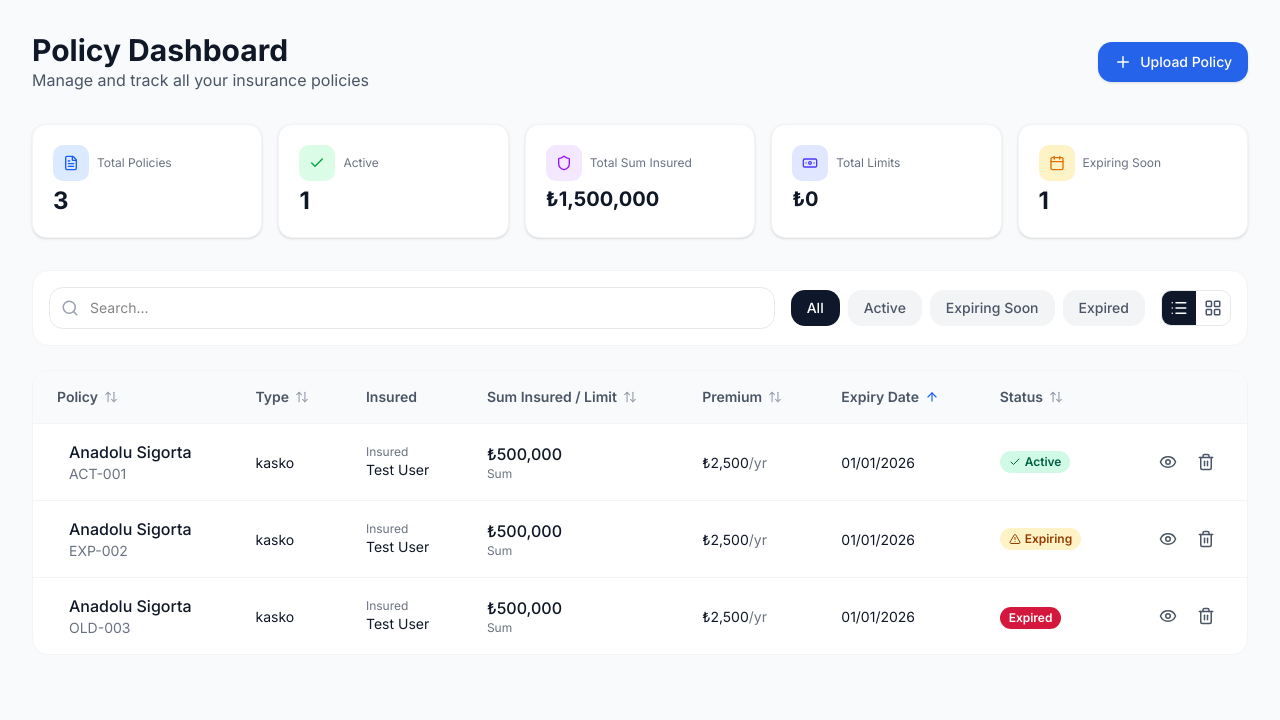
Test case: PolicyDashboard Branch Coverage › Status filter › filters to active only
The width and height of the screenshot is (1280, 720).
Step 1. Click the button "Active" → point(885, 308), box [848,290,922,326]
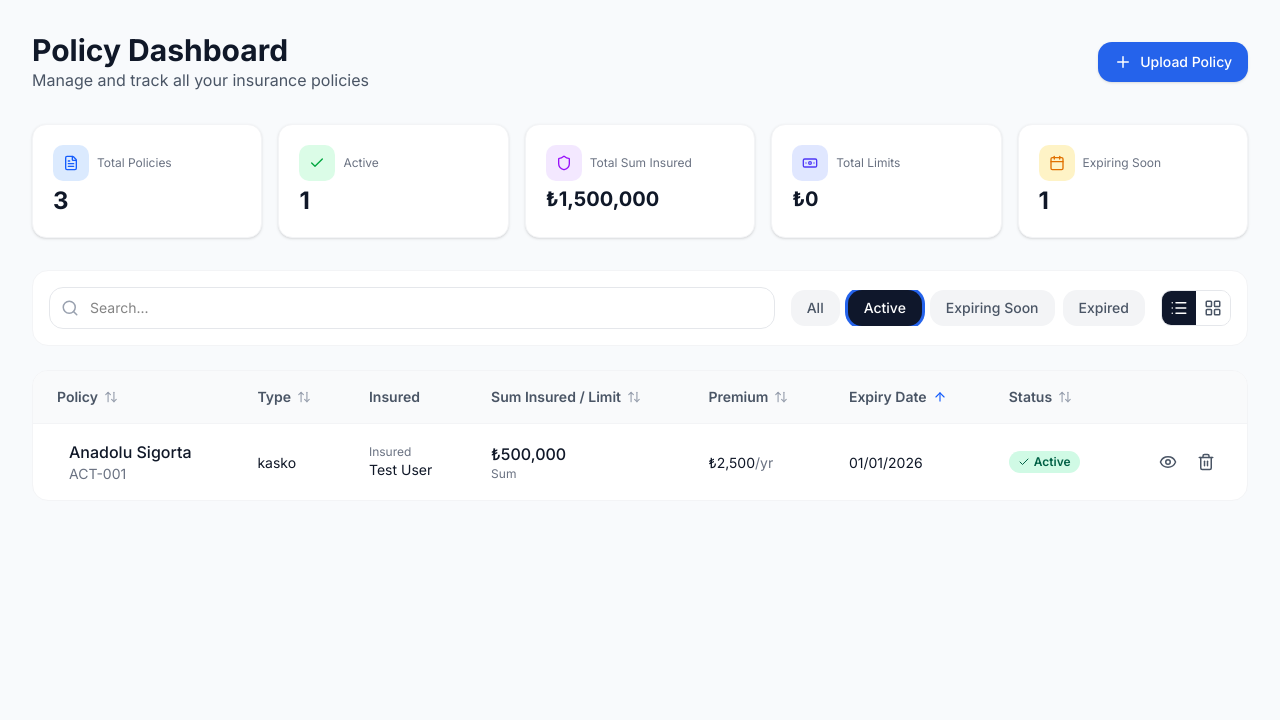
expect the text "ACT-001" is shown: met, box [69,465,126,482]
expect the text "EXP-002" is gone: met
